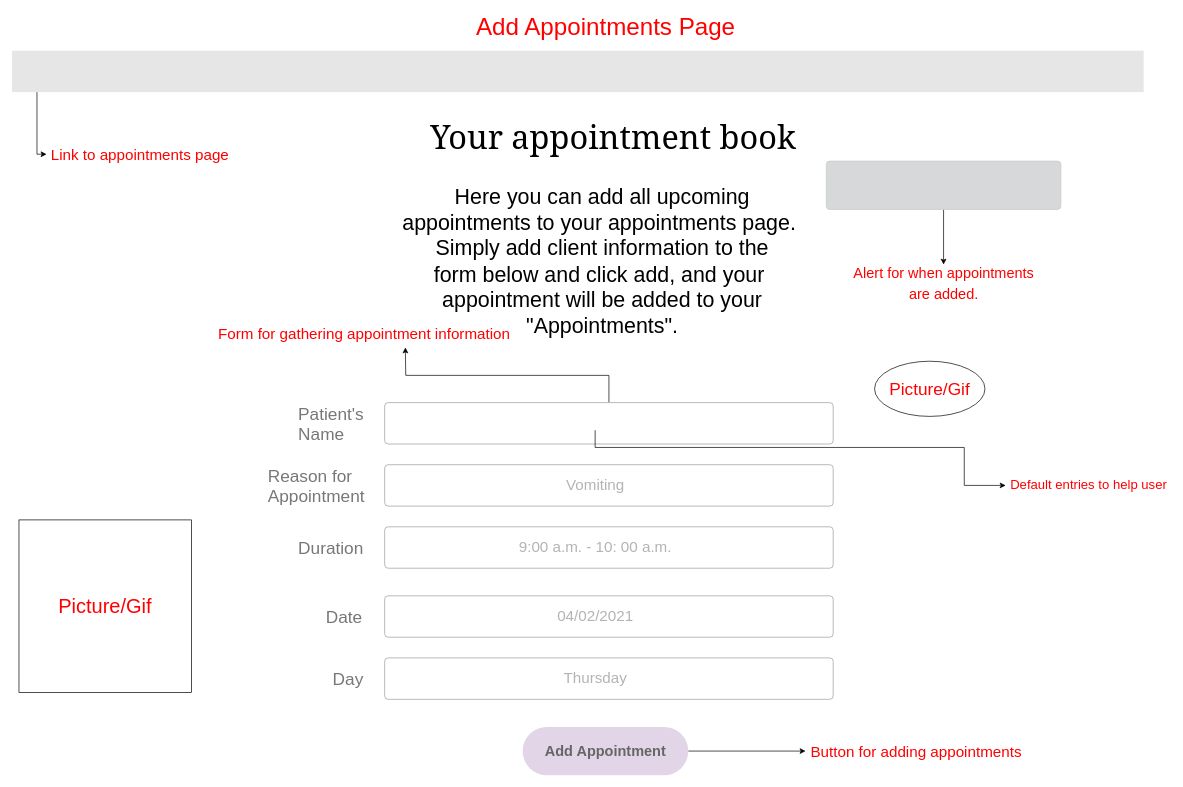
The diagram is 1183 pixels wide and 787 high, and some of its shapes have lost their labels. Here are the shapes that lost their labels. From the top down, the centre of each, then its label:
At pixel 577 71: "Appointments".
At pixel 943 184: "Appointment added!".
At pixel 608 423: "Dylan Connar".
